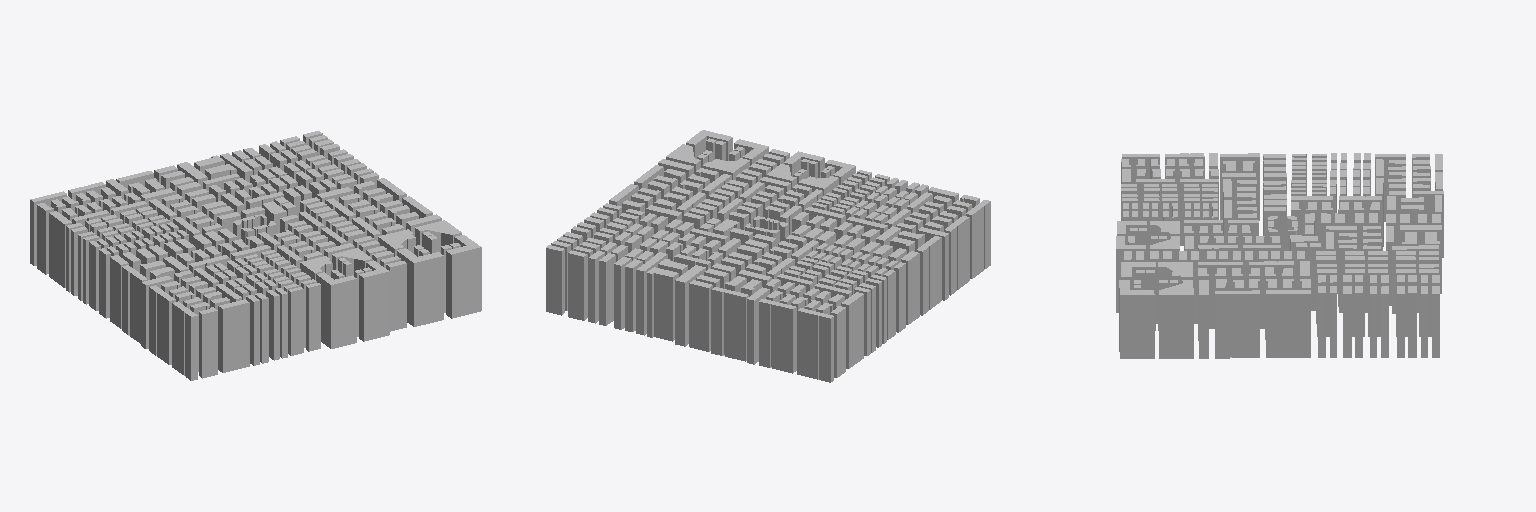
The model's file is city800.obj.
3 renders of one model, left to right at view 1: azimuth 30°, elevation 25°; view 2: azimuth 150°, elevation 25°; view 3: azimuth 270°, elevation 25°, orthographic.
Parts seen in each view (by area): view 1: mesh_1; view 2: mesh_1; view 3: mesh_1.
Boxes of the visible parts, <box> form: mesh_1: <box>30,131,481,380</box>; mesh_1: <box>546,130,990,382</box>; mesh_1: <box>1116,153,1443,358</box>.
Bounding box in the file's own units: 793 × 167 × 774.